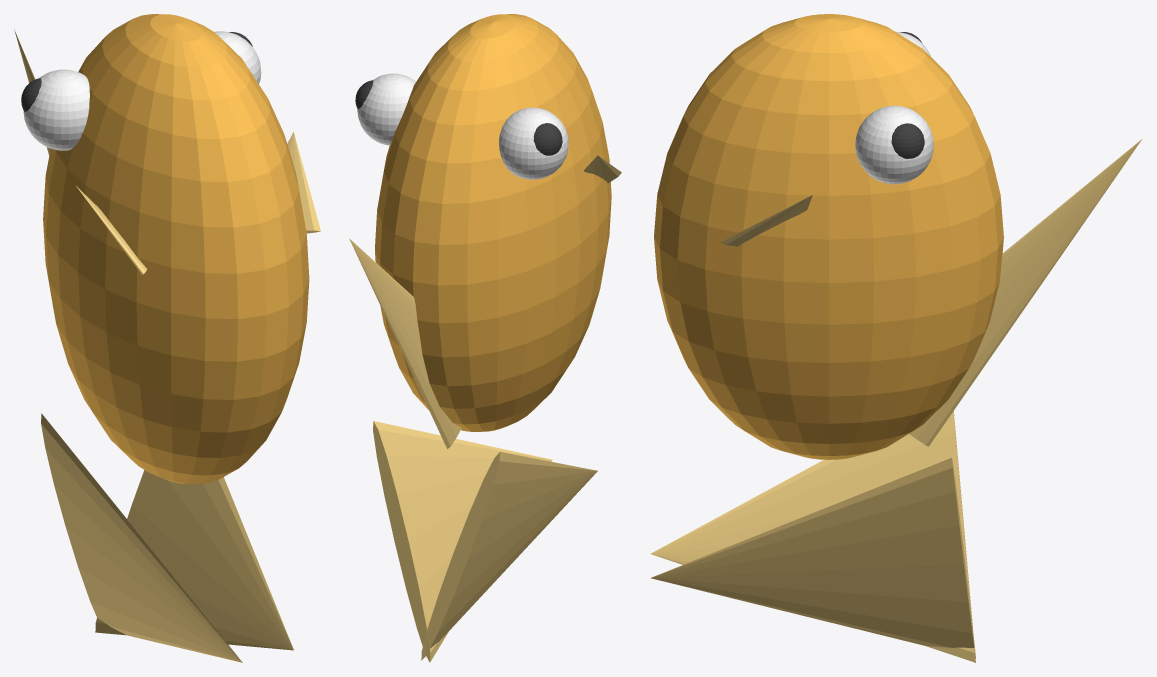
The model's file is goldfish.glb.
3 renders of one model, left to right at view 1: azimuth 30°, elevation 25°; view 2: azimuth 150°, elevation 25°; view 3: azimuth 270°, elevation 25°, orthographic. The views are drawn at different scales.
Parts seen in each view (by area): view 1: Goldfish_Body, Cone.001, Cone, Sphere, Cone.004, Sphere.002, Cone.003; view 2: Goldfish_Body, Cone.001, Cone, Cone.002, Sphere, Sphere.002, Sphere.001, Cone.003; view 3: Goldfish_Body, Cone.001, Cone, Cone.002, Sphere.002, Cone.004, Sphere.003.
Part boxes in pixels (box(x1,y1,x2,y2)): Goldfish_Body: box(43, 14, 309, 483); Cone.001: box(95, 470, 293, 650); Cone: box(41, 413, 242, 662); Sphere: box(23, 69, 89, 150); Cone.004: box(287, 132, 320, 233); Sphere.002: box(214, 31, 261, 83); Cone.003: box(76, 186, 147, 274); Goldfish_Body: box(375, 14, 611, 431); Cone.001: box(373, 421, 552, 662); Cone: box(421, 452, 597, 660); Cone.002: box(349, 238, 461, 448); Sphere: box(499, 107, 568, 179); Sphere.002: box(357, 73, 415, 145); Sphere.001: box(533, 123, 562, 155); Cone.003: box(584, 155, 621, 183); Goldfish_Body: box(654, 14, 1003, 459); Cone.001: box(650, 457, 975, 657); Cone: box(650, 411, 975, 662); Cone.002: box(909, 139, 1141, 446); Sphere.002: box(855, 105, 933, 184); Cone.004: box(720, 195, 812, 246); Sphere.003: box(891, 123, 924, 158).
Bounding box in the file's own units: 1.16 × 3.24 × 2.25.
